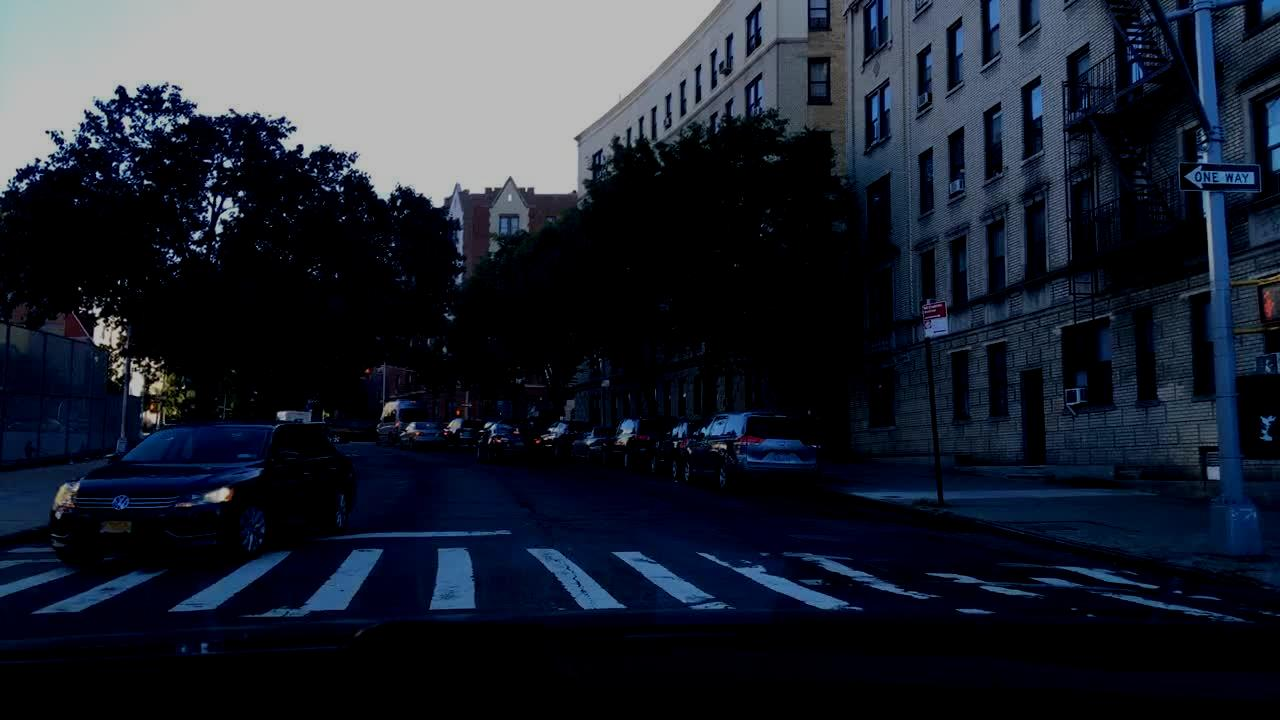Volkswagen: (106, 490, 131, 516)
